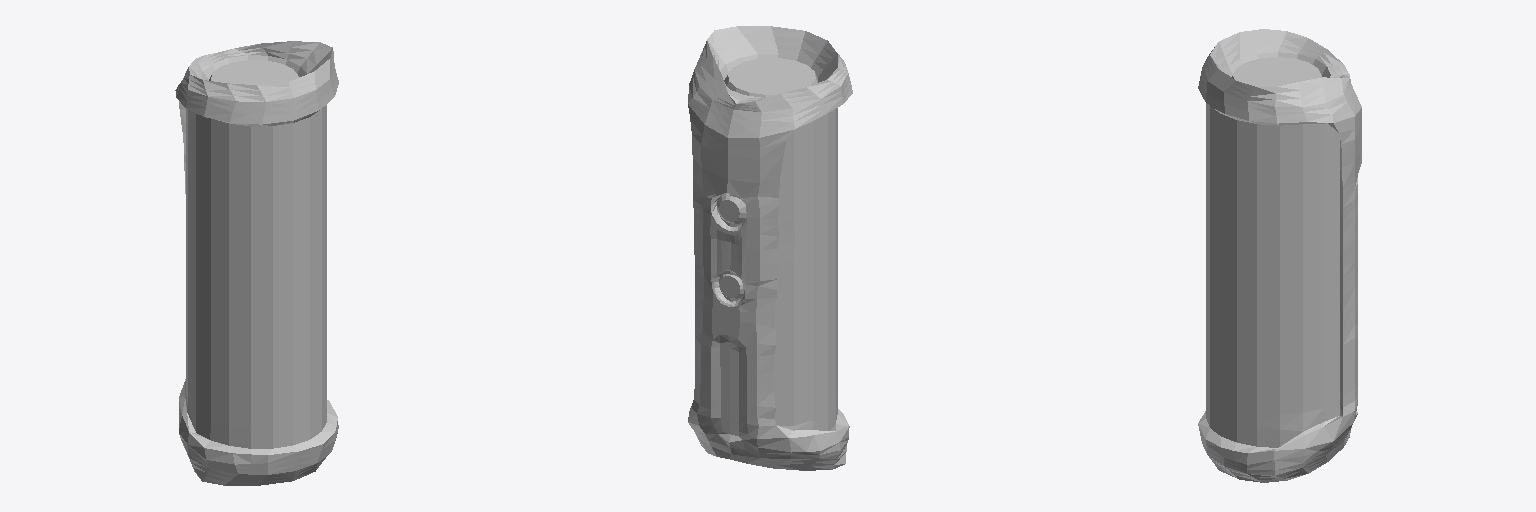
File: JBLobjUV.obj
3 views of the same model, side by side, from view 1: azimuth 30°, elevation 25°; view 2: azimuth 150°, elevation 25°; view 3: azimuth 270°, elevation 25° (orthographic).
Parts seen in each view (by area): view 1: polySurface14; view 2: polySurface14; view 3: polySurface14.
Boxes of the visible parts, <box> form: polySurface14: <box>175,41,338,485</box>; polySurface14: <box>688,26,852,470</box>; polySurface14: <box>1198,29,1361,482</box>.
Bounding box in the file's own units: 4.39 × 11.58 × 4.28.